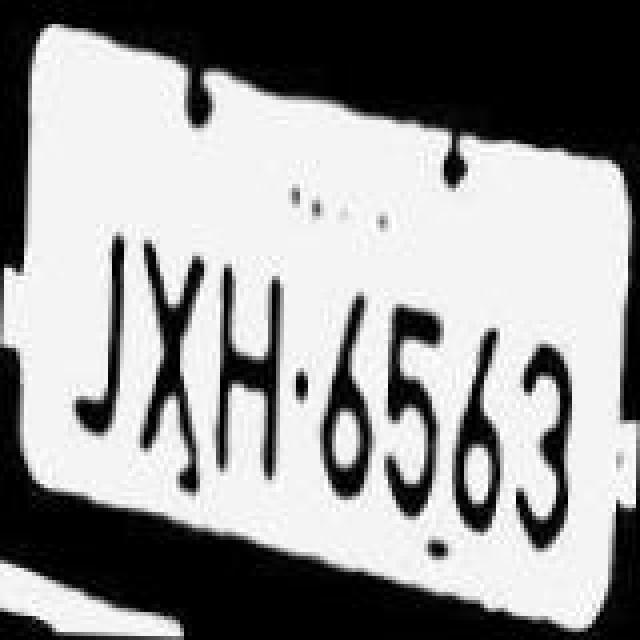3: (508, 308, 588, 572)
5: (378, 268, 450, 528)
6: (448, 292, 520, 540), (312, 260, 380, 520)
H: (208, 228, 292, 484)
J: (60, 180, 132, 444)
X: (132, 220, 212, 452)
